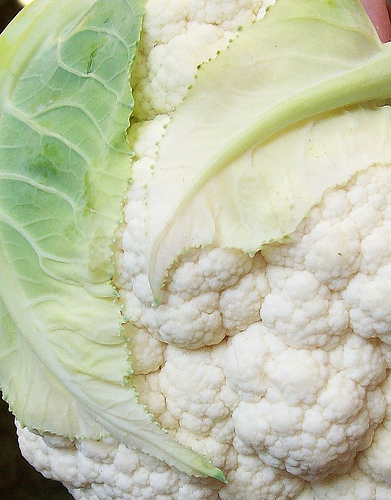cauliflower: (12, 1, 389, 498)
